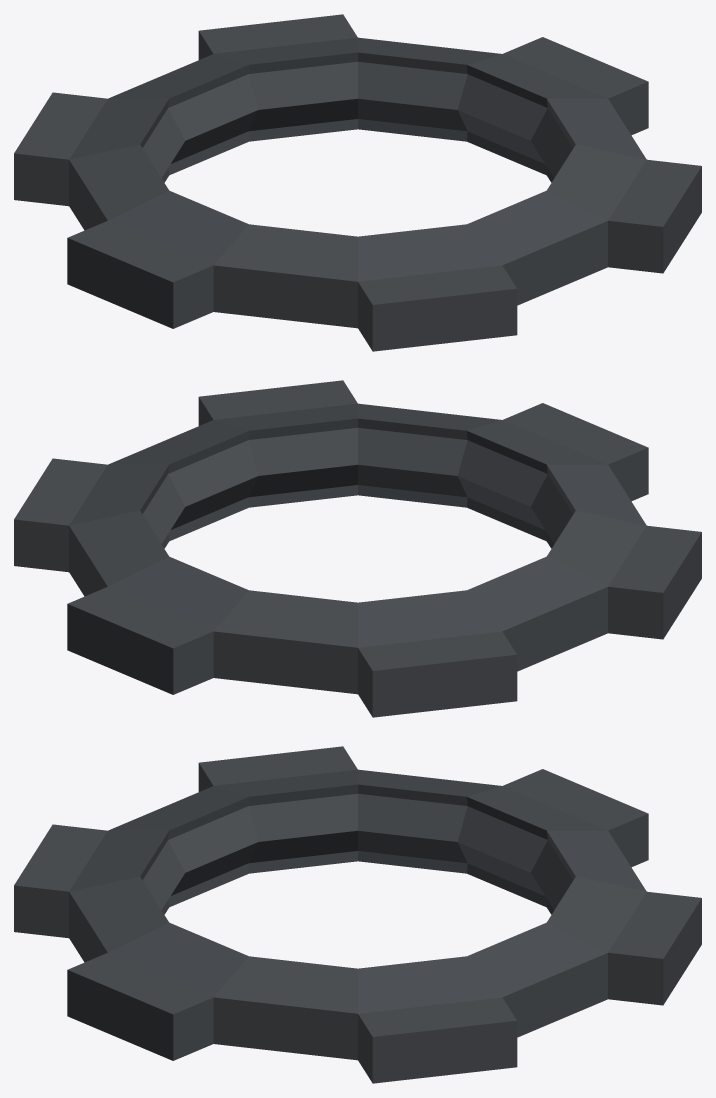
File: SM_gear_01.fbx
3 renders of one model, top to bottom at view 1: azimuth 30°, elevation 25°; view 2: azimuth 150°, elevation 25°; view 3: azimuth 270°, elevation 25°, orthographic.
Visible parts, largest first — view 1: gear_01; view 2: gear_01; view 3: gear_01.
Part boxes in pixels (box(x1,y1,x2,y2)): gear_01: box(14, 14, 701, 351); gear_01: box(14, 380, 701, 717); gear_01: box(14, 746, 701, 1083).
Bounding box in the file's own units: 84.49 × 10.42 × 84.49.
